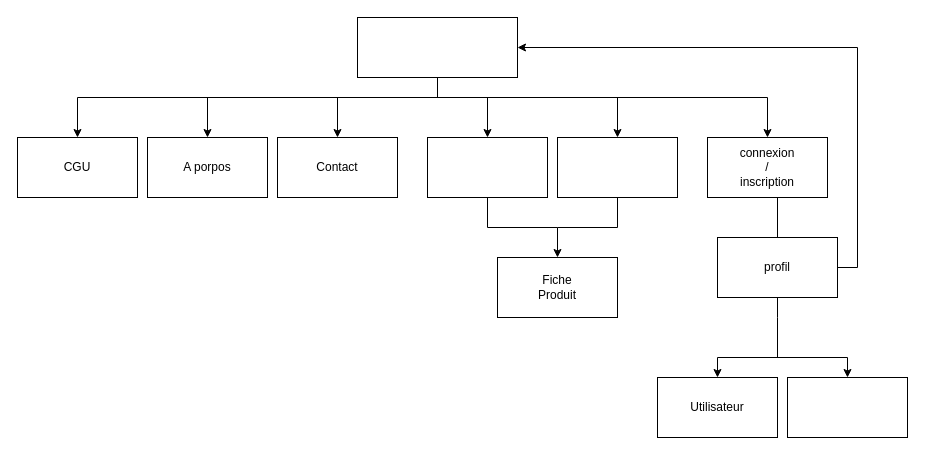
The diagram is 925 pixels wide and 455 high, and some of its shapes have lost their labels. The shapes that lost their labels are listed below. From the top down, each one's centre as x and y in pixels, then its label:
At point (437, 47): "ACCUEIL".
At point (487, 167): "Scanner (V2)".
At point (617, 167): "Recherche".
At point (847, 407): "Administrateur".
